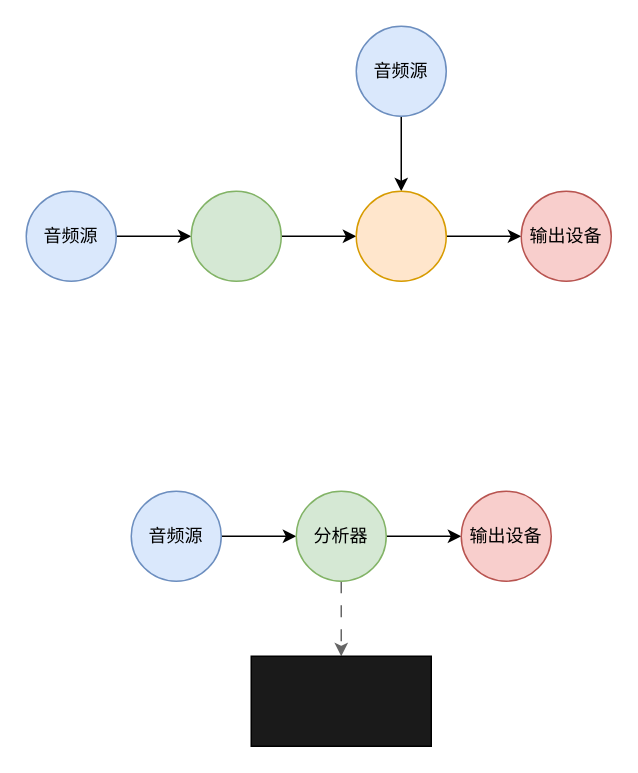
Some shapes in this 638 by 773 pixel diagram are drawn without their labels. Each missing label, with the centre of its shape:
canvas: the point at 340,700
混响: the point at 400,235
音色: the point at 235,235
